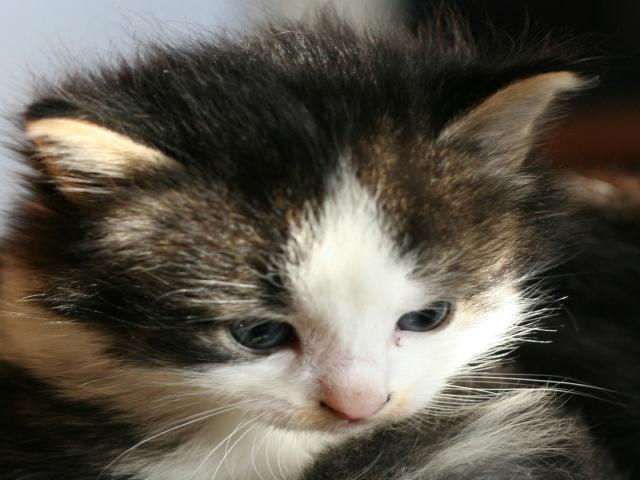Cat: (0, 8, 640, 480)
